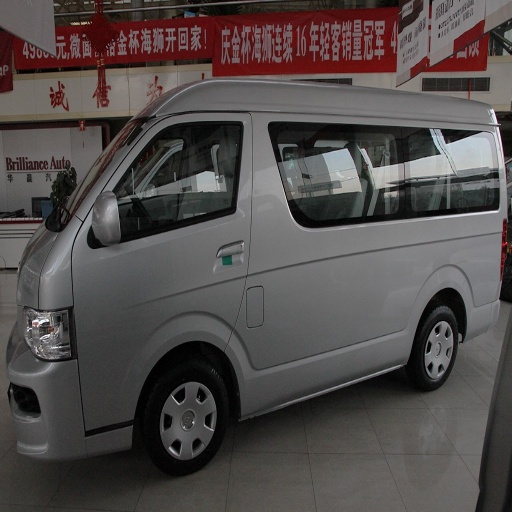back_glass: (280, 123, 390, 177), (299, 167, 372, 223)
back_left_door: (180, 115, 248, 264)
trunk: (277, 215, 497, 338), (87, 316, 163, 431)
